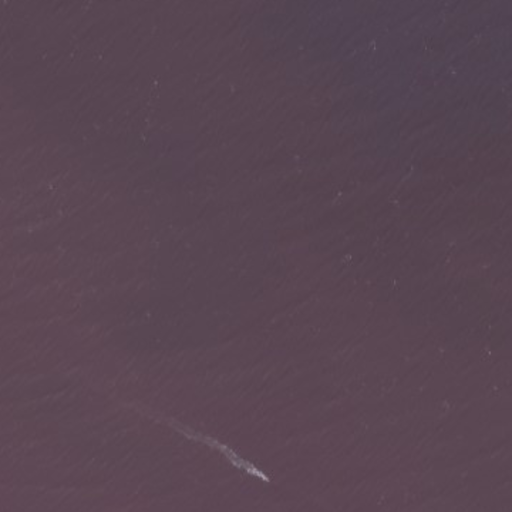ship: (257, 471, 273, 486)
